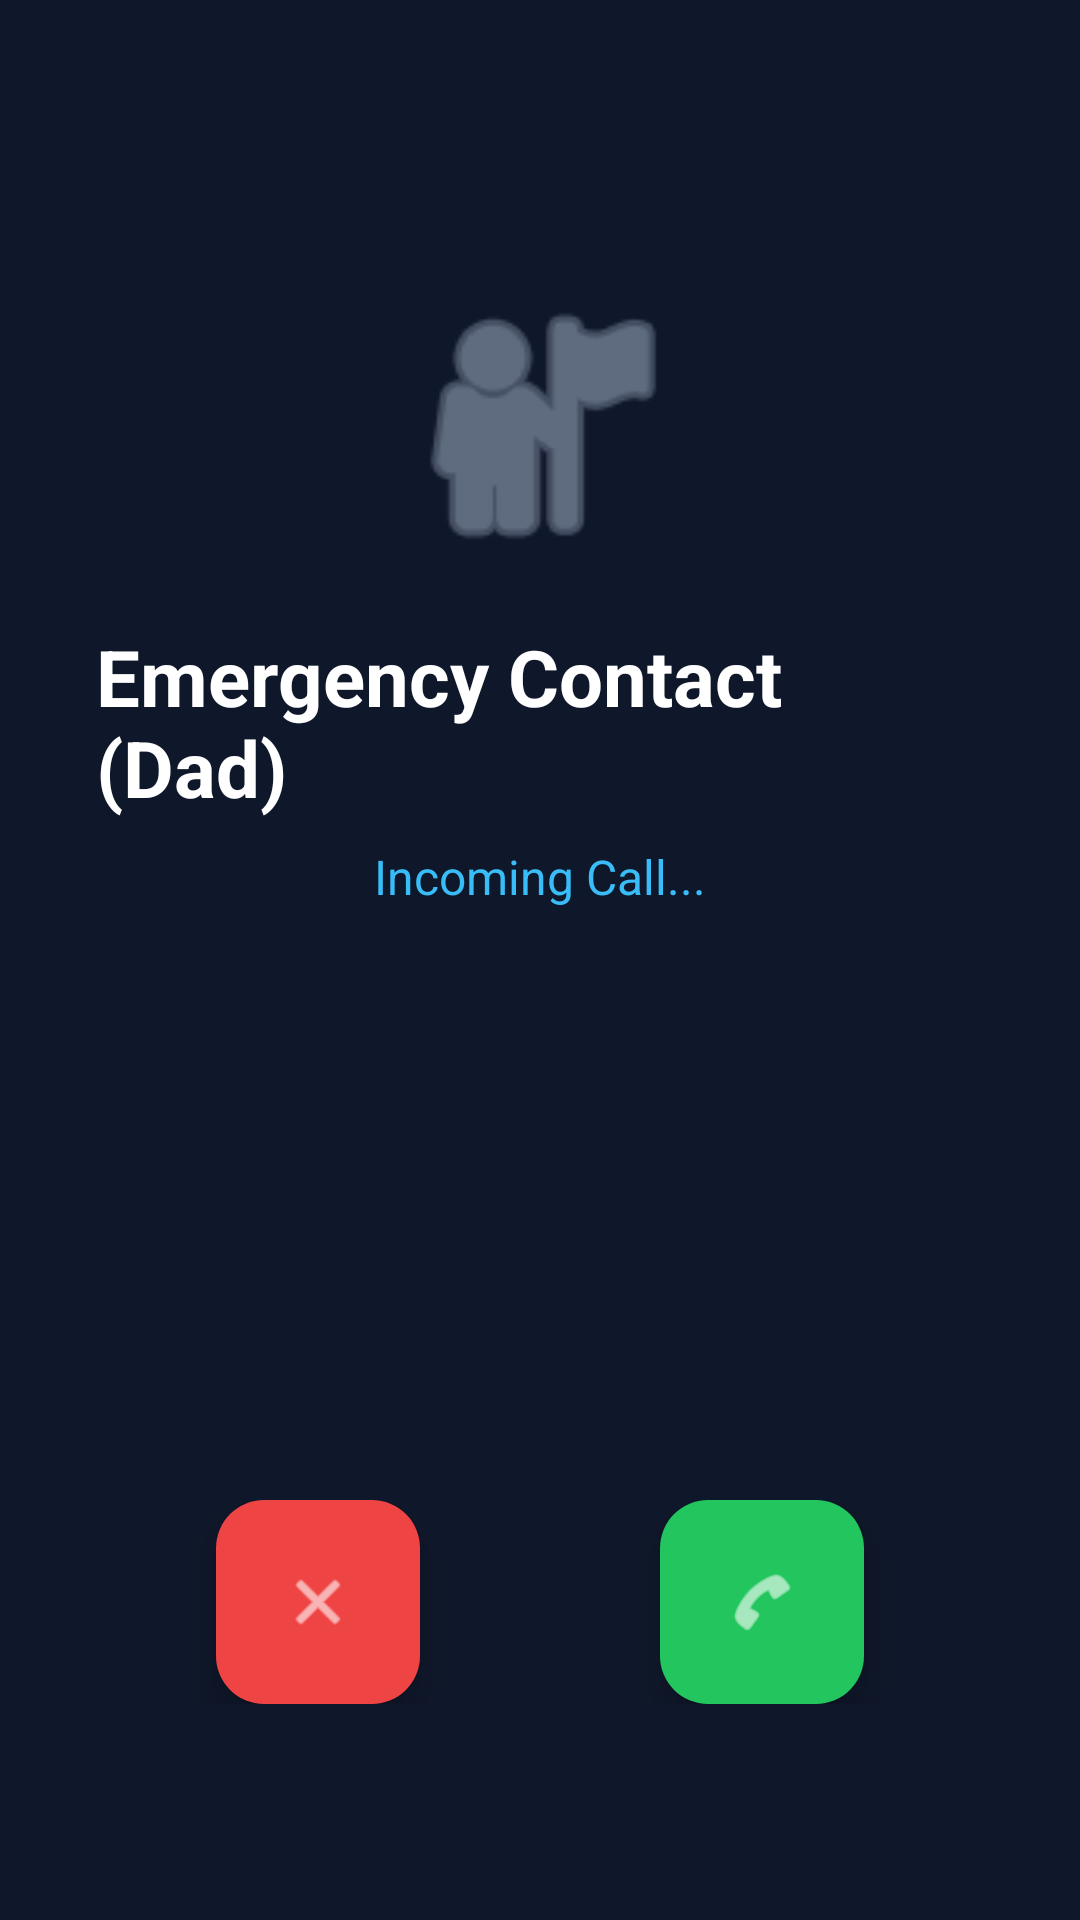

Where to tap for icons on this 1080 × 1920 app screen, as [x,y]:
Answer: [762,1602]
Avatar: [543,426]
Decline: [318,1602]
